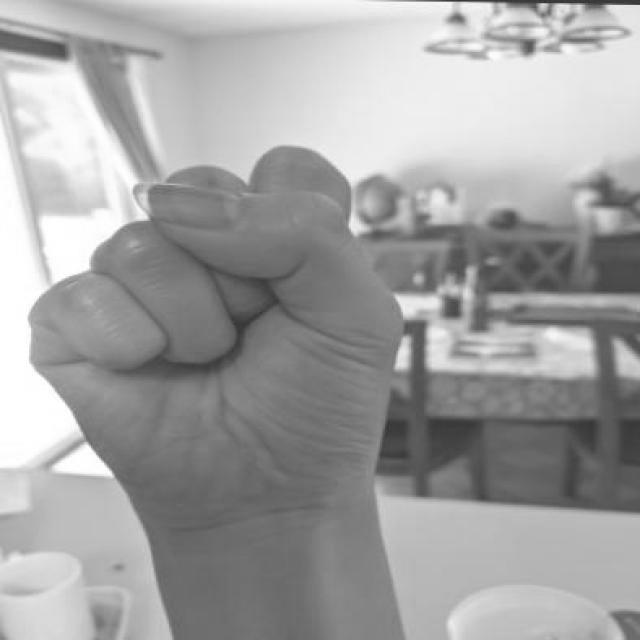S: (9, 133, 421, 541)
